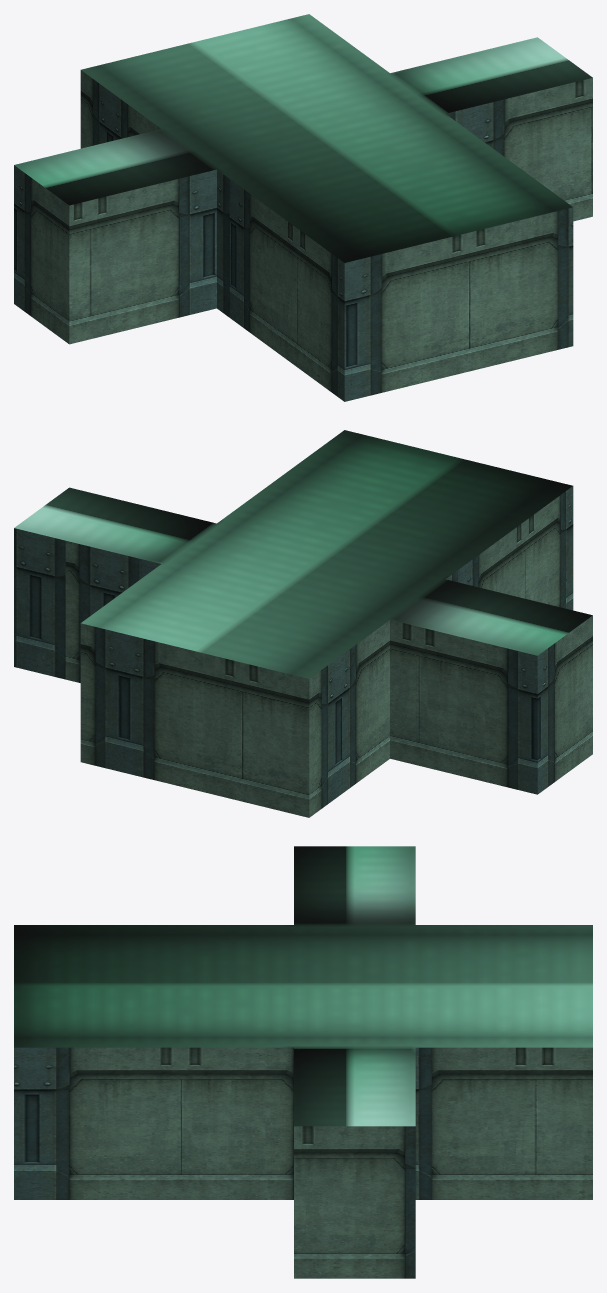
The model's file is BuildingSystem-03-Advance-03-Heavy-1-50-01.glb.
The picture shows the model from 3 angles, top to bottom: view 1: azimuth 30°, elevation 25°; view 2: azimuth 150°, elevation 25°; view 3: azimuth 270°, elevation 25°; orthographic projection. The views are drawn at different scales.
Visible parts, largest first — view 1: buildings/saxarba/SMV_Buildings/BuildingSystem-03-Advance-03; view 2: buildings/saxarba/SMV_Buildings/BuildingSystem-03-Advance-03; view 3: buildings/saxarba/SMV_Buildings/BuildingSystem-03-Advance-03.
Part boxes in pixels (box(x1,y1,x2,y2)): buildings/saxarba/SMV_Buildings/BuildingSystem-03-Advance-03: box(14, 14, 592, 401); buildings/saxarba/SMV_Buildings/BuildingSystem-03-Advance-03: box(14, 430, 592, 817); buildings/saxarba/SMV_Buildings/BuildingSystem-03-Advance-03: box(14, 846, 592, 1278).
Bounding box in the file's own units: 71 × 18 × 62.
